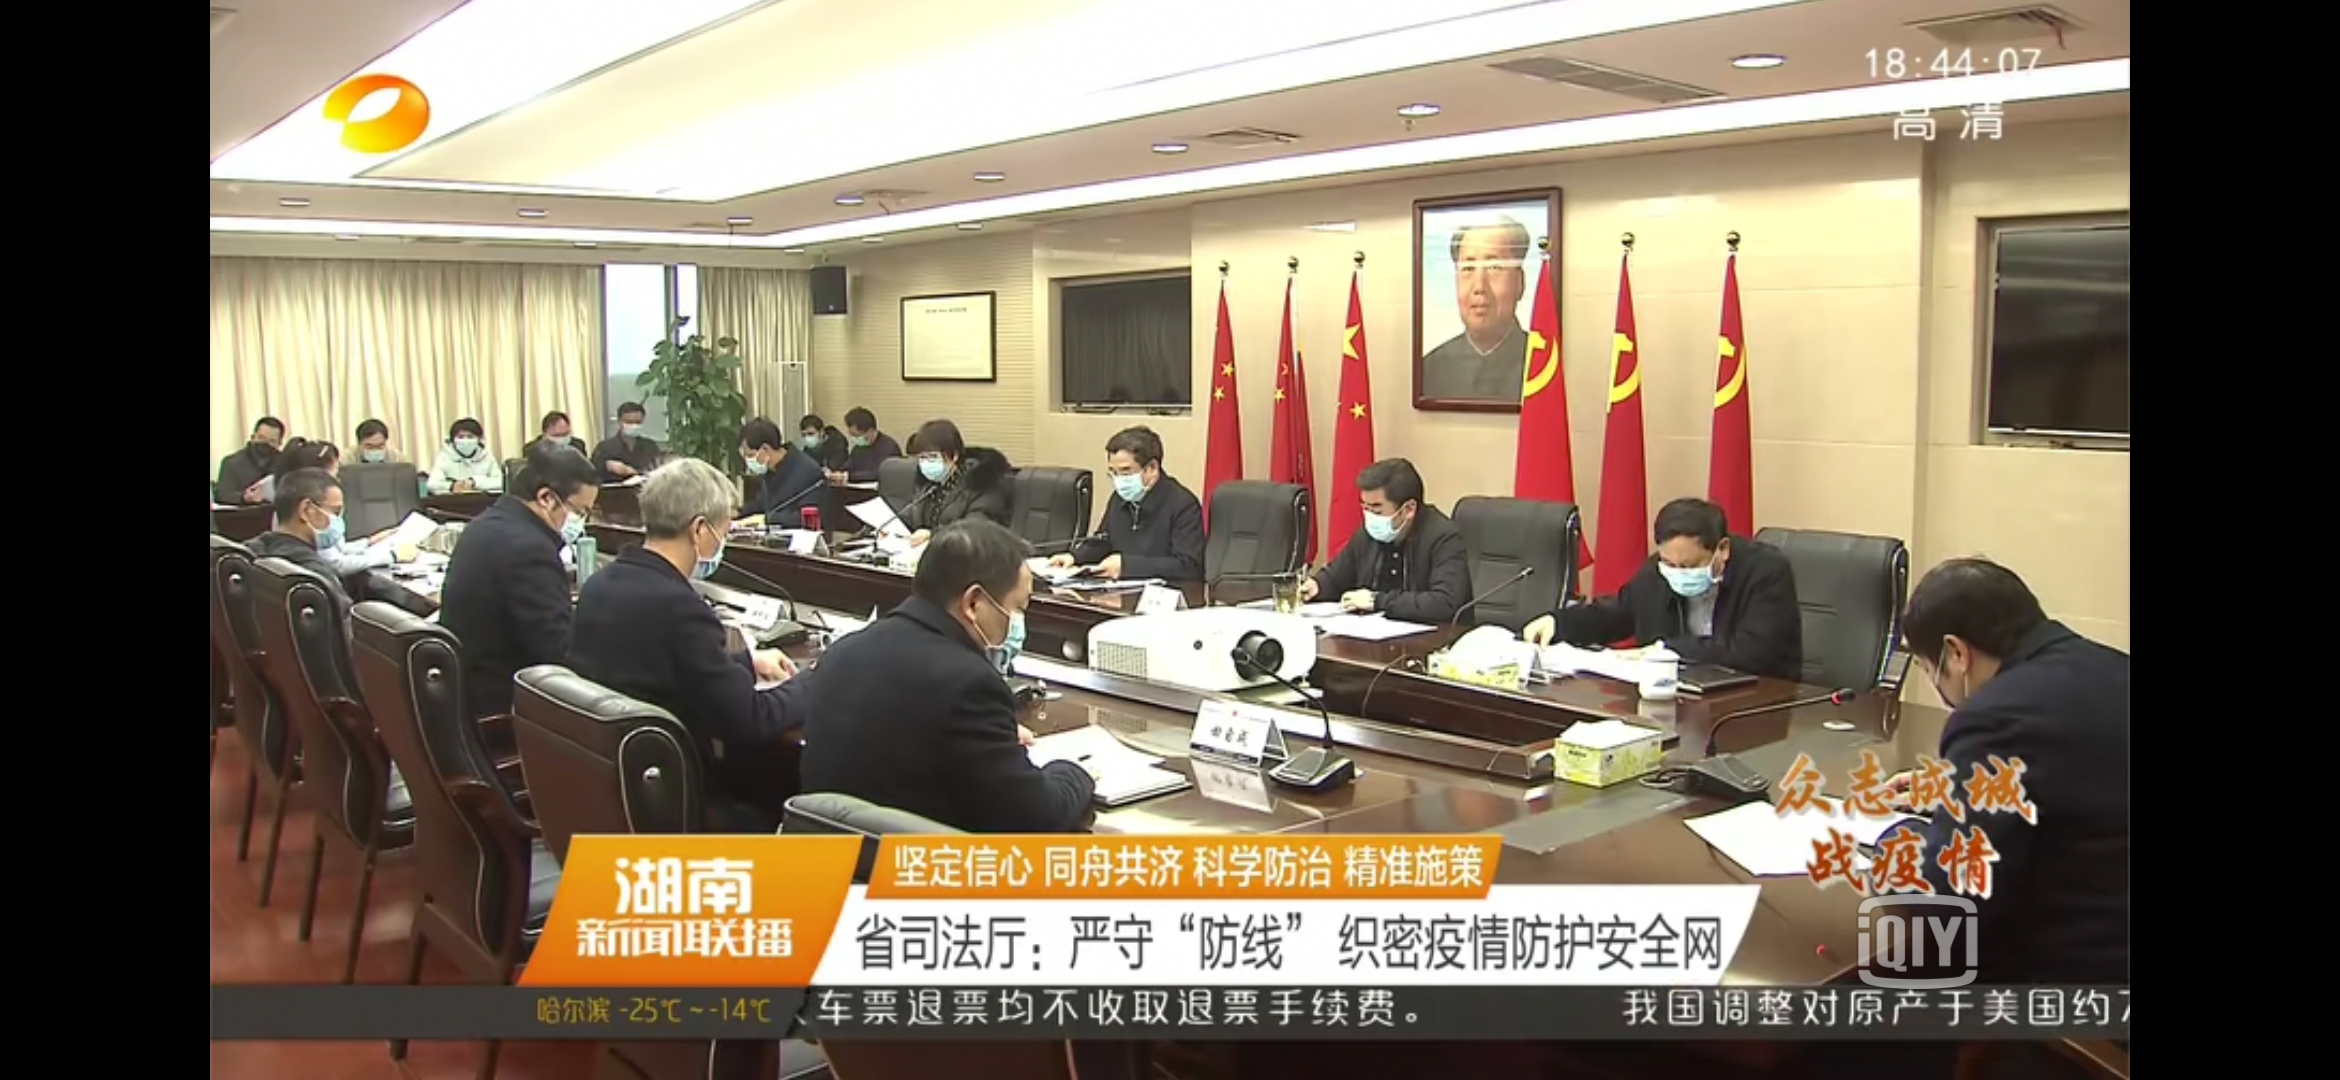correctlyWear: (963, 567, 1036, 656), (1910, 630, 1977, 718), (1654, 534, 1733, 595), (682, 503, 739, 588), (534, 471, 600, 544), (1355, 485, 1422, 541), (1104, 446, 1164, 501), (298, 491, 348, 553), (915, 437, 960, 480), (737, 436, 778, 476), (248, 425, 284, 459), (540, 419, 584, 446), (612, 409, 649, 439), (357, 430, 392, 459), (451, 424, 484, 455), (845, 418, 877, 448), (797, 421, 830, 448)
